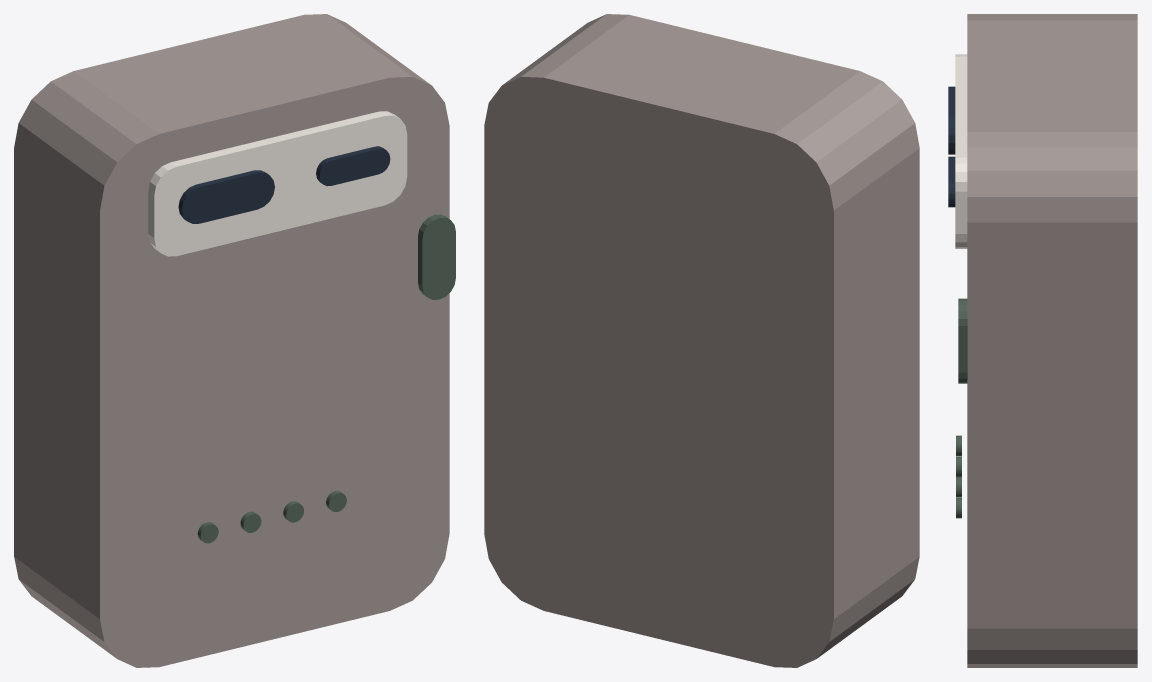
The model's file is powerbank.glb.
3 renders of one model, left to right at view 1: azimuth 30°, elevation 25°; view 2: azimuth 150°, elevation 25°; view 3: azimuth 270°, elevation 25°, orthographic.
Visible parts, largest first — view 1: body, port panel, port usb a, power key, port usb c; view 2: body; view 3: body, port panel, power key, port usb a, port usb c.
Part boxes in pixels (x1,y1,x2,y2): body: [14, 14, 449, 667]; port panel: [148, 111, 407, 256]; port usb a: [178, 170, 274, 223]; power key: [418, 214, 455, 299]; port usb c: [316, 146, 390, 186]; body: [484, 14, 919, 667]; body: [967, 14, 1137, 667]; port panel: [955, 54, 967, 248]; power key: [958, 298, 967, 383]; port usb a: [948, 86, 955, 154]; port usb c: [948, 156, 955, 207].
Bounding box in the file's own units: 0.945 × 1.37 × 0.4445.
